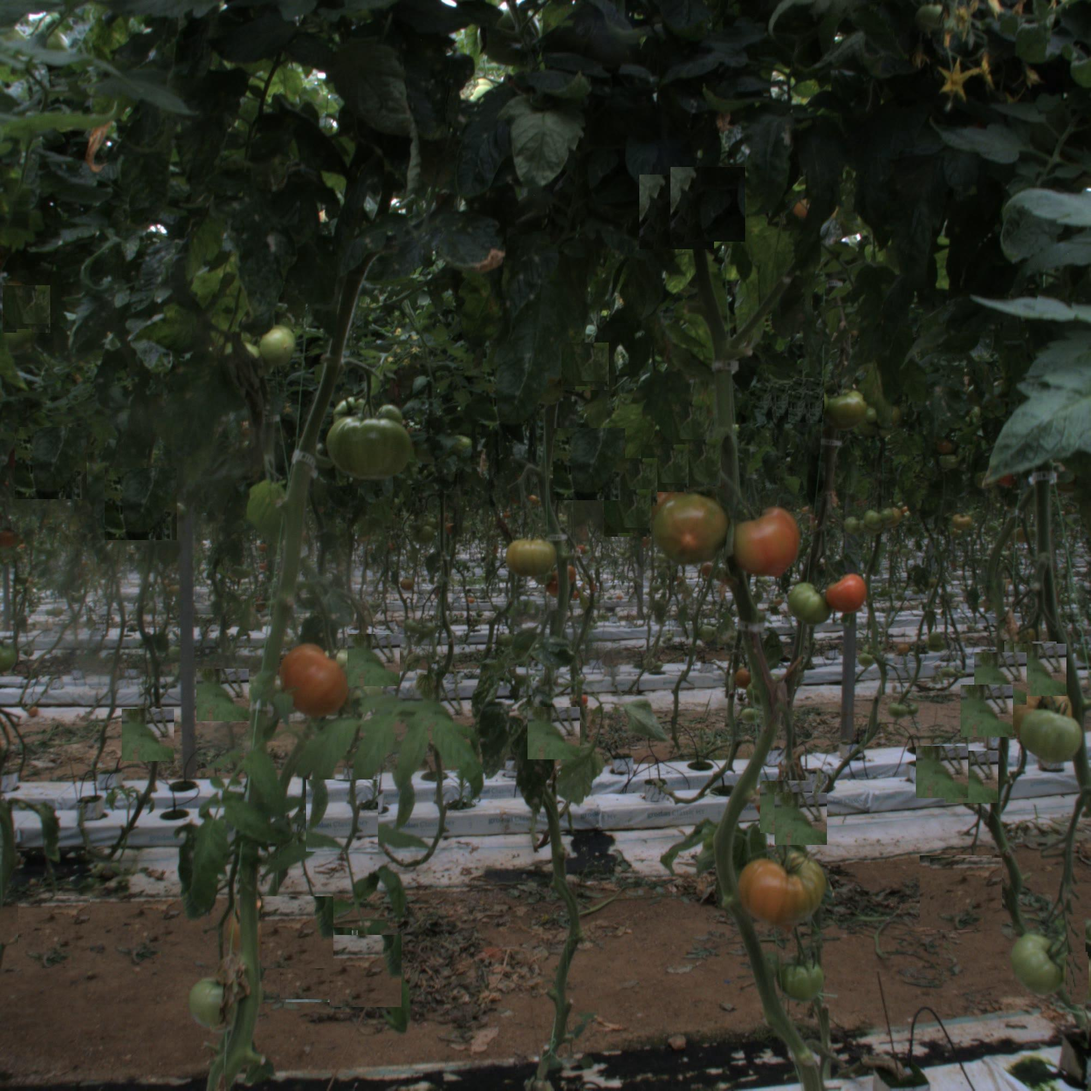fully-ripe: (280, 644, 345, 709), (826, 573, 866, 613)
semi-ripe: (739, 841, 826, 928), (654, 490, 728, 564), (733, 507, 802, 576)
unripe: (330, 407, 407, 485), (1021, 701, 1085, 765), (191, 977, 245, 1032), (1010, 936, 1065, 990), (259, 325, 304, 370), (508, 535, 553, 579), (784, 961, 826, 1002), (826, 390, 866, 429), (789, 583, 829, 622)
